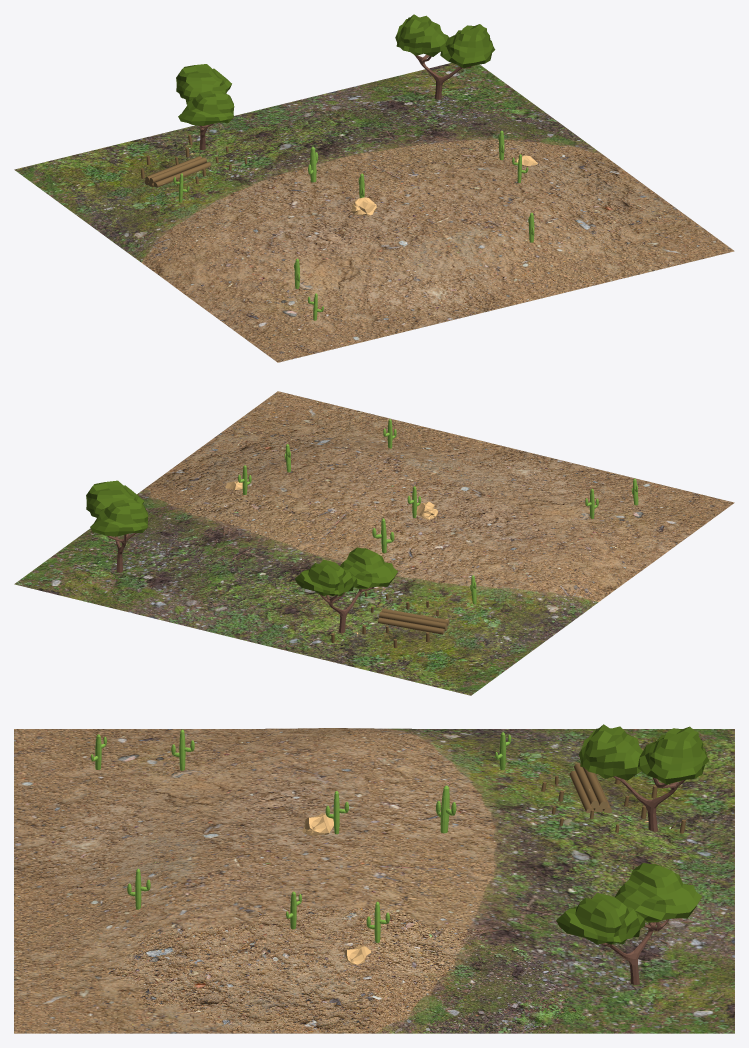
File: FFSS.fbx
The picture shows the model from 3 angles, top to bottom: view 1: azimuth 30°, elevation 25°; view 2: azimuth 150°, elevation 25°; view 3: azimuth 270°, elevation 25°; orthographic projection. The views are drawn at different scales.
Visible parts, largest first — view 1: Plane, CommonTree_1, CommonTree_1.001, Resource_Tree_Group_Cut; view 2: Plane, CommonTree_1.001, CommonTree_1, Resource_Tree_Group_Cut; view 3: Plane, CommonTree_1, CommonTree_1.001, Resource_Tree_Group_Cut, group1910377098, group1446250878.001.
Boxes of the visible parts, box(x1,y1,x2,y2) form: Plane: box(14, 63, 734, 362); CommonTree_1: box(395, 14, 495, 99); CommonTree_1.001: box(176, 64, 234, 149); Resource_Tree_Group_Cut: box(140, 134, 247, 187); Plane: box(14, 391, 734, 695); CommonTree_1.001: box(295, 547, 397, 633); CommonTree_1: box(86, 480, 148, 572); Resource_Tree_Group_Cut: box(331, 591, 449, 647); Plane: box(14, 728, 734, 1033); CommonTree_1: box(556, 863, 701, 984); CommonTree_1.001: box(579, 724, 708, 831); Resource_Tree_Group_Cut: box(541, 763, 686, 833); group1910377098: box(436, 785, 456, 833); group1446250878.001: box(302, 813, 333, 835).
Size of the model in its own units: 500 by 86.3 by 500.
